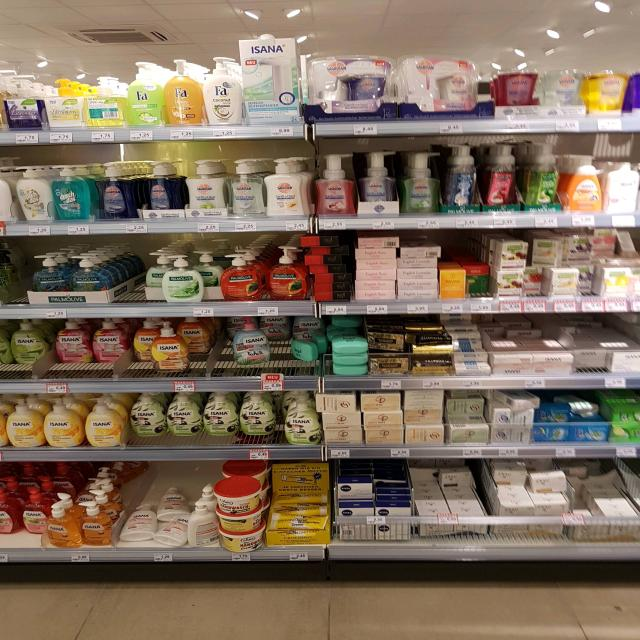unorganised: (49, 318, 94, 362), (152, 320, 190, 372), (232, 316, 271, 364), (167, 390, 203, 439), (130, 391, 167, 438), (11, 318, 47, 364), (92, 315, 127, 362), (185, 498, 220, 545), (203, 393, 239, 438), (116, 503, 159, 540), (238, 395, 275, 434), (158, 486, 192, 521), (155, 512, 189, 547), (561, 232, 594, 266), (496, 388, 540, 412), (530, 238, 564, 269), (529, 469, 567, 494), (573, 347, 610, 371), (291, 332, 320, 362), (590, 227, 618, 258), (368, 329, 407, 351), (520, 264, 547, 294), (446, 398, 486, 416), (577, 264, 598, 296), (338, 483, 375, 501), (496, 466, 527, 486), (353, 236, 403, 248), (398, 245, 444, 258), (564, 399, 597, 416), (302, 253, 329, 267), (300, 234, 324, 246), (306, 262, 332, 273), (306, 245, 329, 256)
